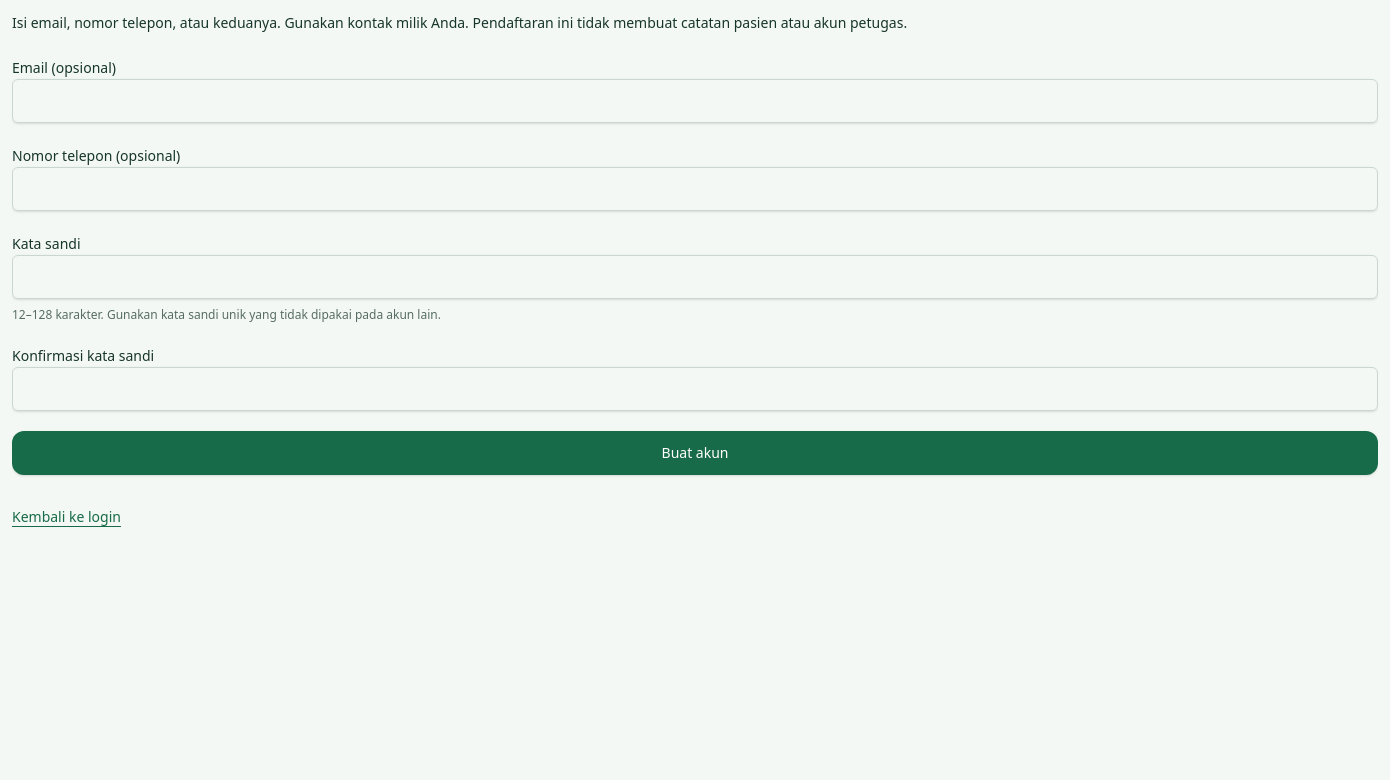
it: rejects incomplete password or contact ()
The width and height of the screenshot is (1390, 780).
Click the button "Buat akun".
click(695, 453)  # box [12,431,1378,475]
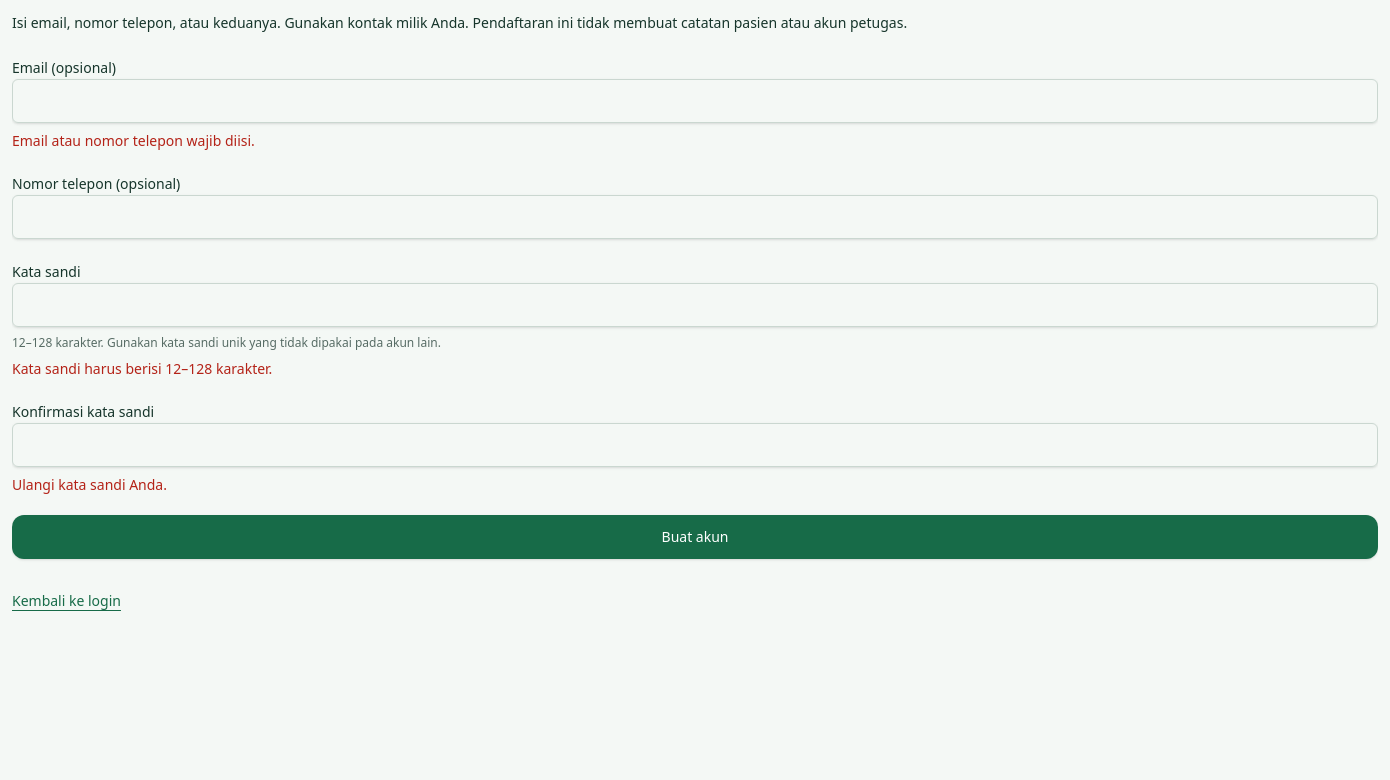
expect the text "Email atau nomor telepon wajib diisi." is shown: met, box [12,131,255,150]
